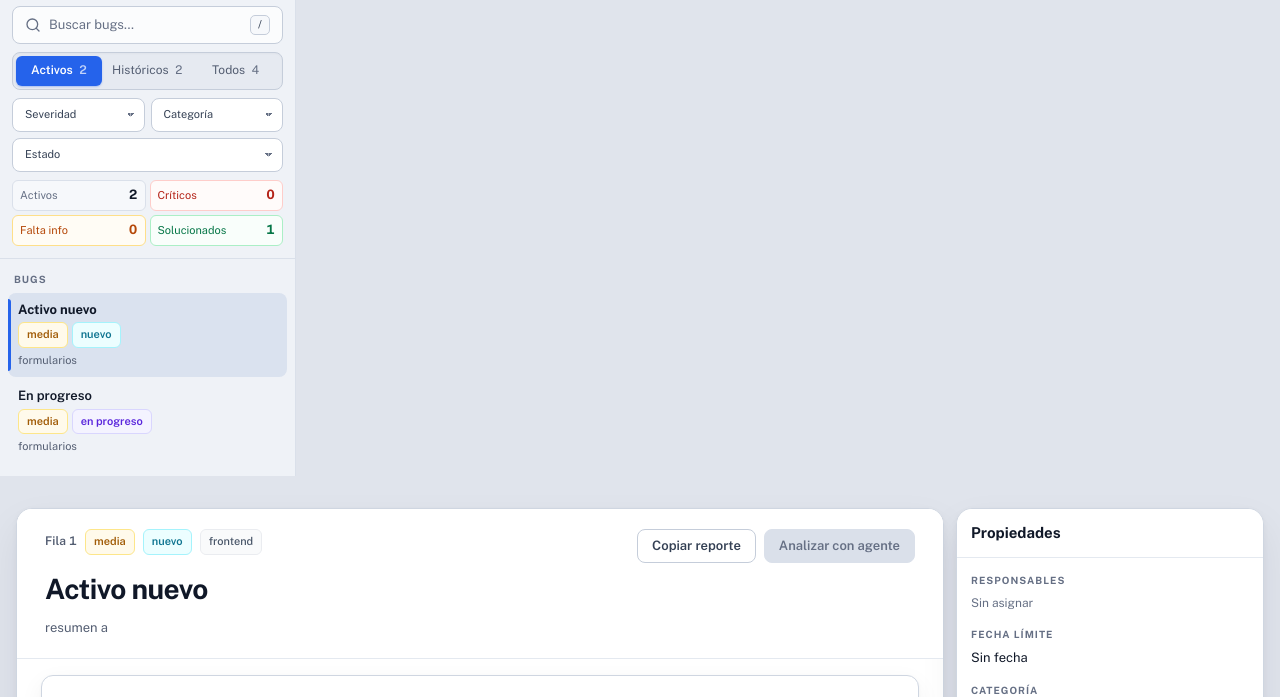
Test: BugsScreen — ciclo de vida (activos / históricos) › la pestaña todos muestra activos e históricos juntos
Click the tab "Todos 4": (236, 71) [193,56,279,86]
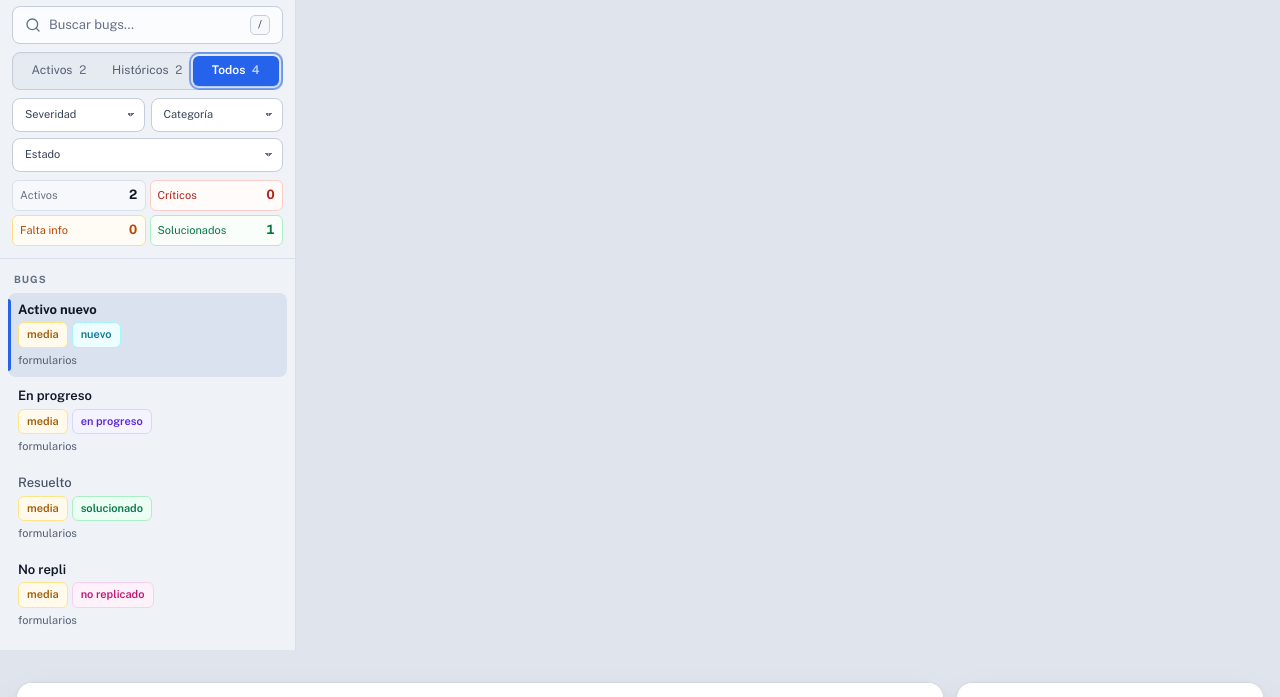
Expected: the text "Activo nuevo" is shown, [18,302,97,317]
Expected: the text "Resuelto" is shown, [18,475,72,490]
